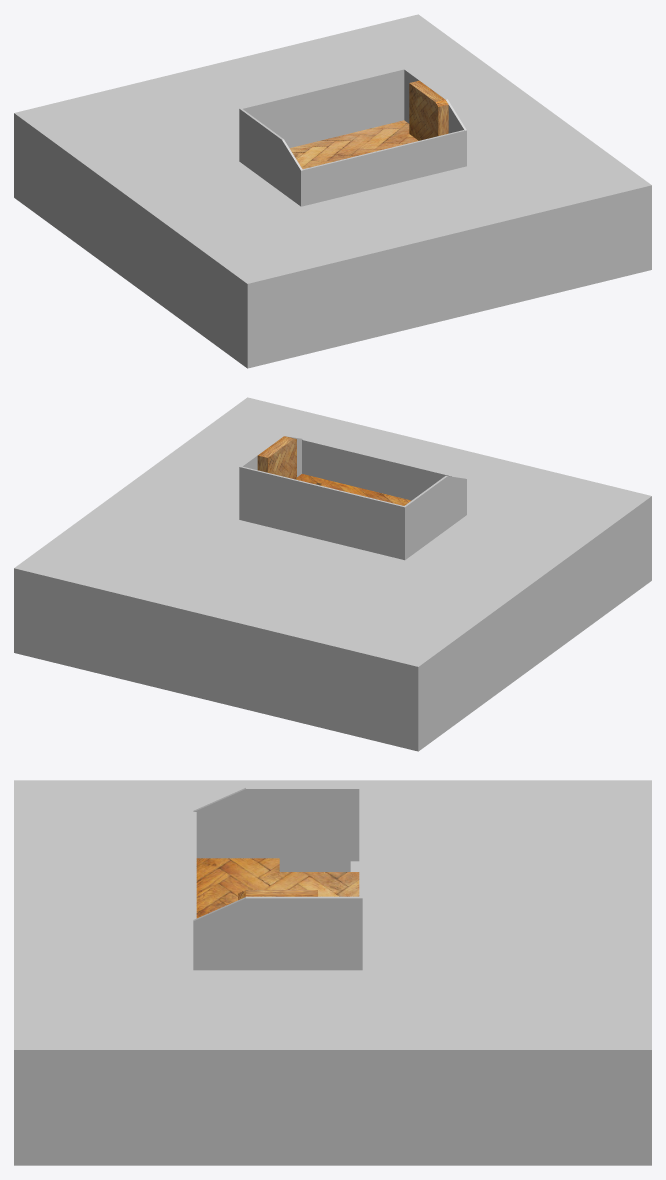
File: house_test.FBX
The picture shows the model from 3 angles, top to bottom: view 1: azimuth 30°, elevation 25°; view 2: azimuth 150°, elevation 25°; view 3: azimuth 270°, elevation 25°; orthographic projection. The views are drawn at different scales.
Visible parts, largest first — view 1: ground, back wall, back wall004, back wall002, floor, back wall003, back wall001; view 2: ground, back wall, back wall004, back wall002, back wall003, floor, back wall001; view 3: ground, back wall001, back wall002, floor, back wall003.
Part boxes in pixels (bbox=[...]): ground: bbox=[14, 14, 651, 368]; back wall: bbox=[241, 68, 404, 148]; back wall004: bbox=[303, 130, 464, 205]; back wall002: bbox=[239, 108, 303, 206]; floor: bbox=[290, 120, 418, 169]; back wall003: bbox=[409, 80, 448, 140]; back wall001: bbox=[403, 68, 466, 166]; ground: bbox=[14, 397, 651, 751]; back wall: bbox=[241, 466, 403, 559]; back wall004: bbox=[302, 439, 462, 500]; back wall002: bbox=[403, 476, 466, 560]; back wall003: bbox=[257, 436, 296, 479]; floor: bbox=[297, 474, 411, 505]; back wall001: bbox=[239, 436, 302, 519]; ground: bbox=[14, 780, 651, 1165]; back wall001: bbox=[193, 896, 362, 970]; back wall002: bbox=[193, 787, 362, 861]; floor: bbox=[196, 858, 359, 918]; back wall003: bbox=[238, 890, 317, 900].
Bounding box in the file's own units: 20 × 6.5 × 20.
